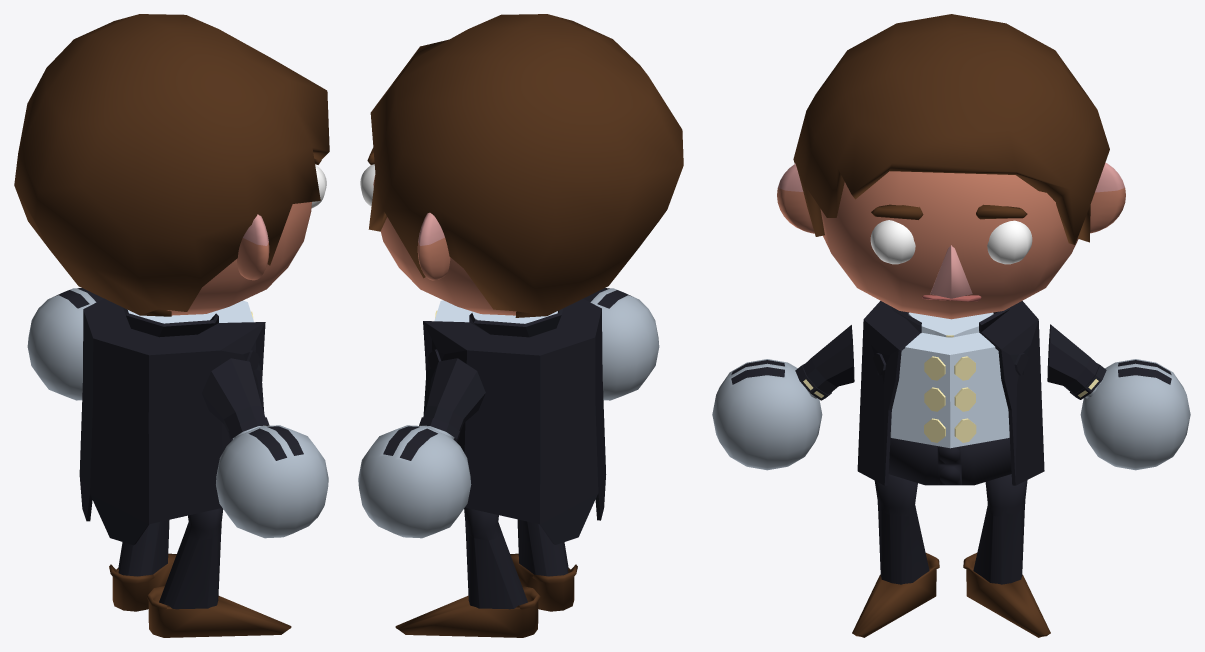
The model's file is Buttler_v3.glb.
3 views of the same model, side by side, from view 1: azimuth 30°, elevation 25°; view 2: azimuth 150°, elevation 25°; view 3: azimuth 270°, elevation 25° (orthographic). The views are drawn at different scales.
Parts seen in each view (by area): view 1: Hair.009, Butler_v3-col, right_arm-col.008, right_leg-col.008, head-col.008, left_arm-col.008, left_leg-col.008; view 2: Hair.009, Butler_v3-col, left_arm-col.008, left_leg-col.008, right_arm-col.008, head-col.008, right_leg-col.008; view 3: Hair.009, Butler_v3-col, head-col.008, left_arm-col.008, right_arm-col.008, right_leg-col.008, left_leg-col.008, Eyes.008.
Boxes of the visible parts, left/top/right/bottom form: Hair.009: left=14, top=14, right=329, bottom=316; Butler_v3-col: left=79, top=298, right=265, bottom=545; right_arm-col.008: left=201, top=358, right=328, bottom=538; right_leg-col.008: left=146, top=508, right=291, bottom=637; head-col.008: left=167, top=202, right=311, bottom=315; left_arm-col.008: left=27, top=288, right=103, bottom=400; left_leg-col.008: left=109, top=519, right=176, bottom=611; Hair.009: left=368, top=14, right=683, bottom=317; Butler_v3-col: left=423, top=299, right=606, bottom=544; left_arm-col.008: left=358, top=358, right=485, bottom=538; left_leg-col.008: left=395, top=507, right=540, bottom=637; right_arm-col.008: left=583, top=288, right=659, bottom=400; head-col.008: left=373, top=175, right=516, bottom=315; right_leg-col.008: left=510, top=519, right=577, bottom=611; Hair.009: left=793, top=14, right=1109, bottom=244; Butler_v3-col: left=857, top=301, right=1044, bottom=485; head-col.008: left=777, top=162, right=1125, bottom=319; left_arm-col.008: left=1047, top=324, right=1190, bottom=470; right_arm-col.008: left=712, top=325, right=854, bottom=470; right_leg-col.008: left=852, top=474, right=939, bottom=637; left_leg-col.008: left=963, top=474, right=1050, bottom=637; Eyes.008: left=870, top=220, right=1032, bottom=264.
Size of the model in its own units: 1.01 by 1.96 by 1.47.
